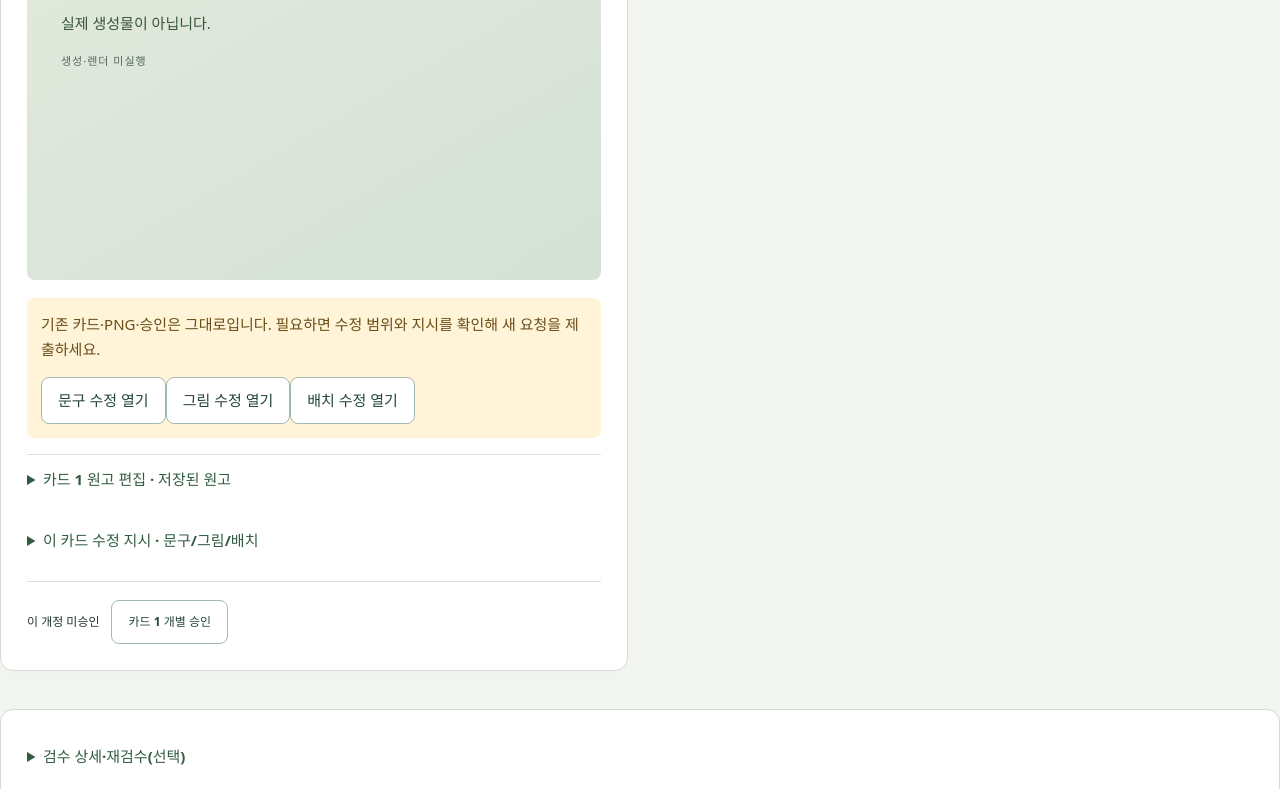
이미 제출된 동일 지시는 미제출 초안으로 오인하지 않고 범위 변경 뒤에만 초안으로 표시한다
(page scrolled)
expect the button "카드 1 초안 버리기" is not shown: met
Click the button "문구 수정 열기" at (103, 401), box top-left (41, 377), bottom-right (166, 424)
(page scrolled)
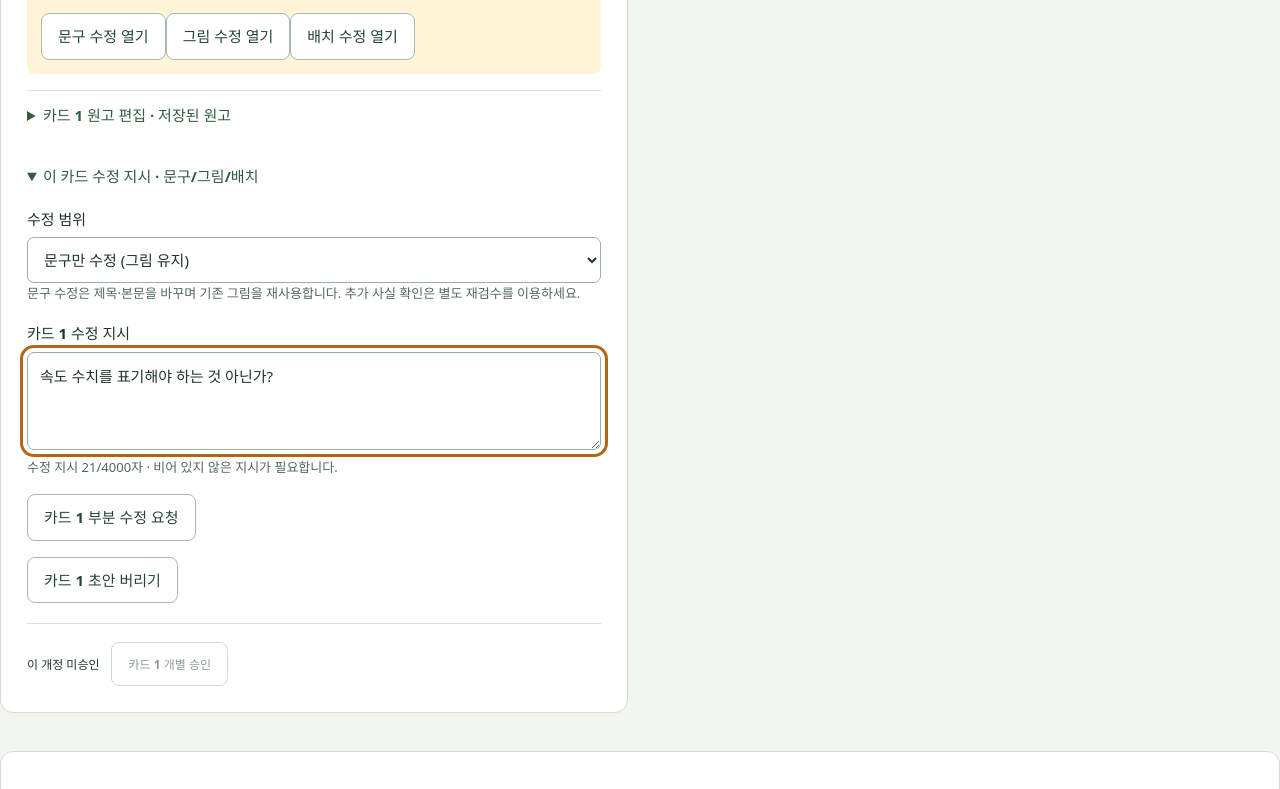
expect the button "카드 1 초안 버리기" is shown: met, box top-left (27, 557), bottom-right (178, 604)
